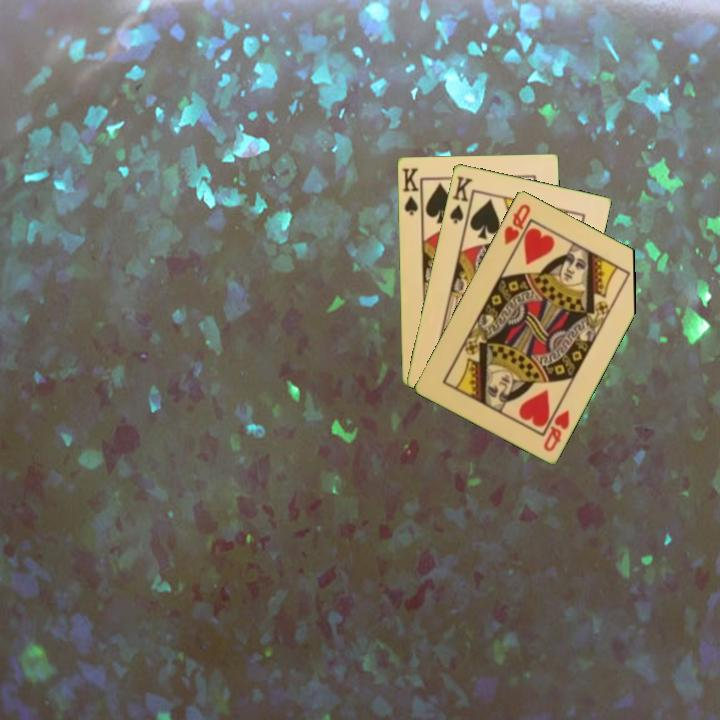Ks: (446, 172, 475, 228), (398, 164, 424, 218)
Qh: (500, 200, 533, 248), (540, 406, 572, 454)
